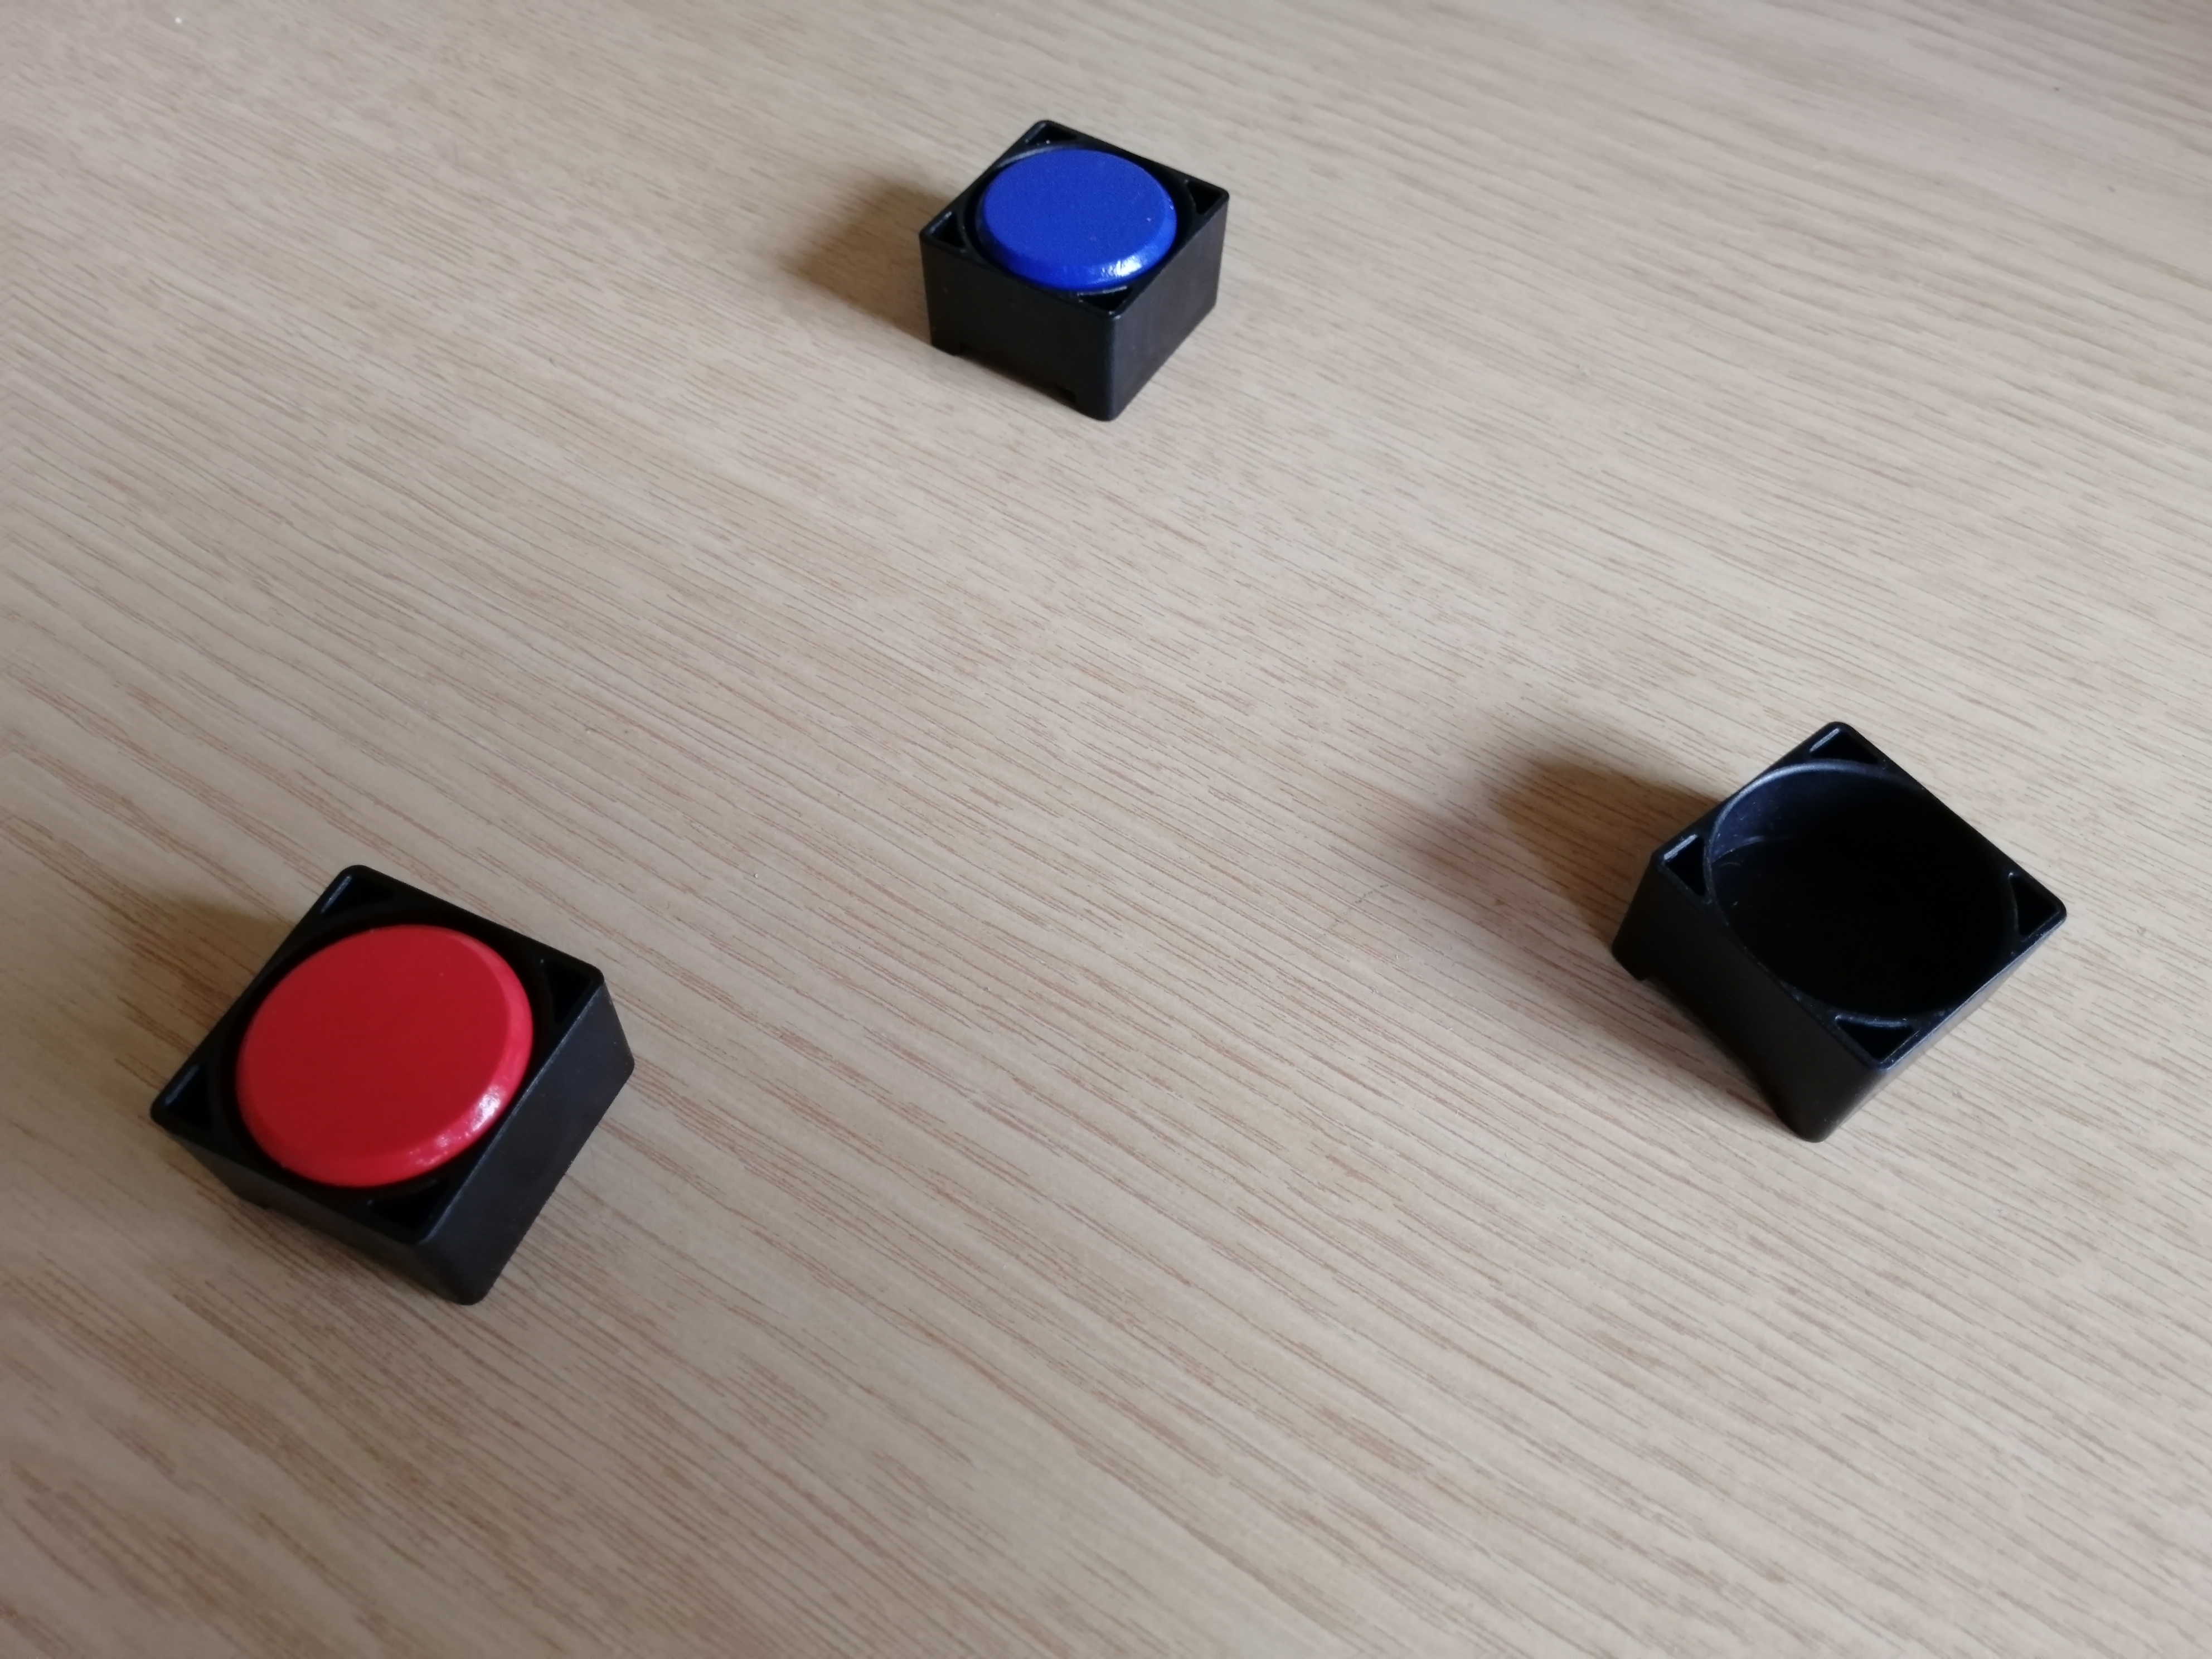Behaelter: (145, 866, 637, 1310), (1613, 718, 2066, 1141), (918, 117, 1235, 416)
WerkStueck: (240, 934, 521, 1188), (977, 146, 1177, 288)
